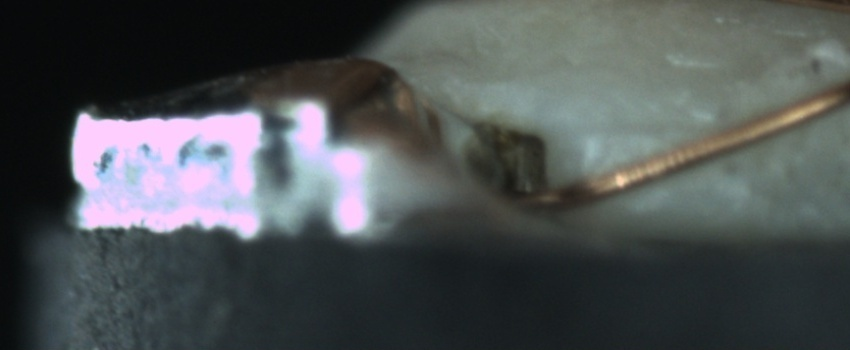DL: (576, 95, 721, 161)
